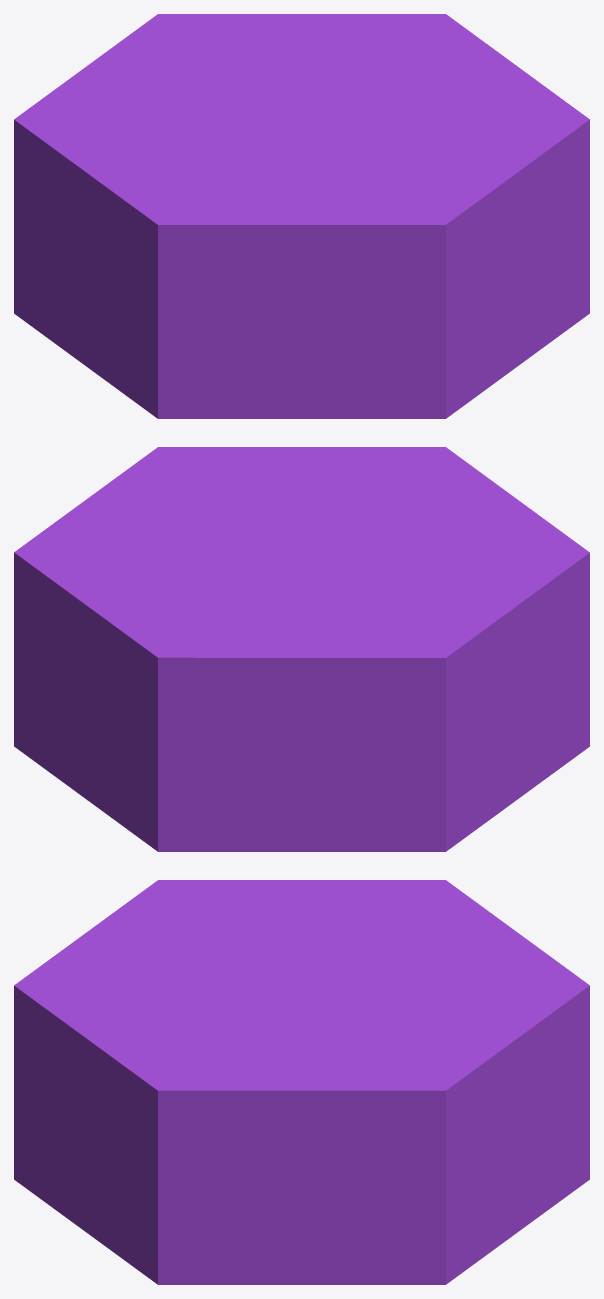
File: NormalTileStage3.fbx
3 renders of one model, top to bottom at view 1: azimuth 30°, elevation 25°; view 2: azimuth 150°, elevation 25°; view 3: azimuth 270°, elevation 25°, orthographic.
Visible parts, largest first — view 1: NormalTileStage3; view 2: NormalTileStage3; view 3: NormalTileStage3.
Boxes of the visible parts, bbox=[...] form: NormalTileStage3: bbox=[14, 14, 589, 418]; NormalTileStage3: bbox=[14, 447, 589, 851]; NormalTileStage3: bbox=[14, 880, 589, 1284].
Size of the model in its own units: 173 by 74.42 by 200.
